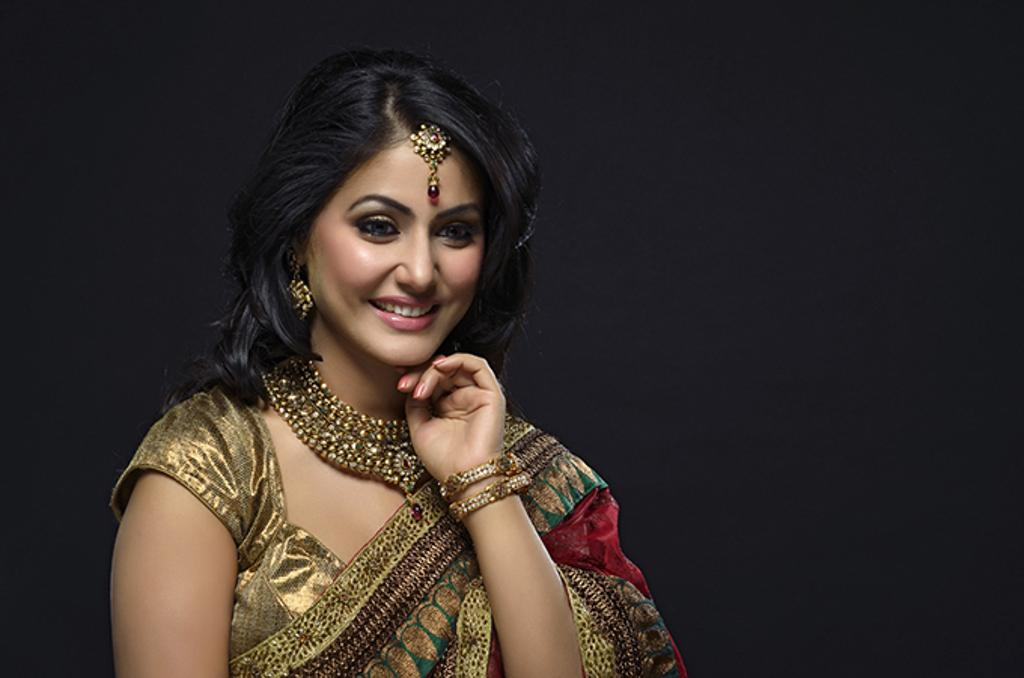face: (326, 148, 476, 362)
